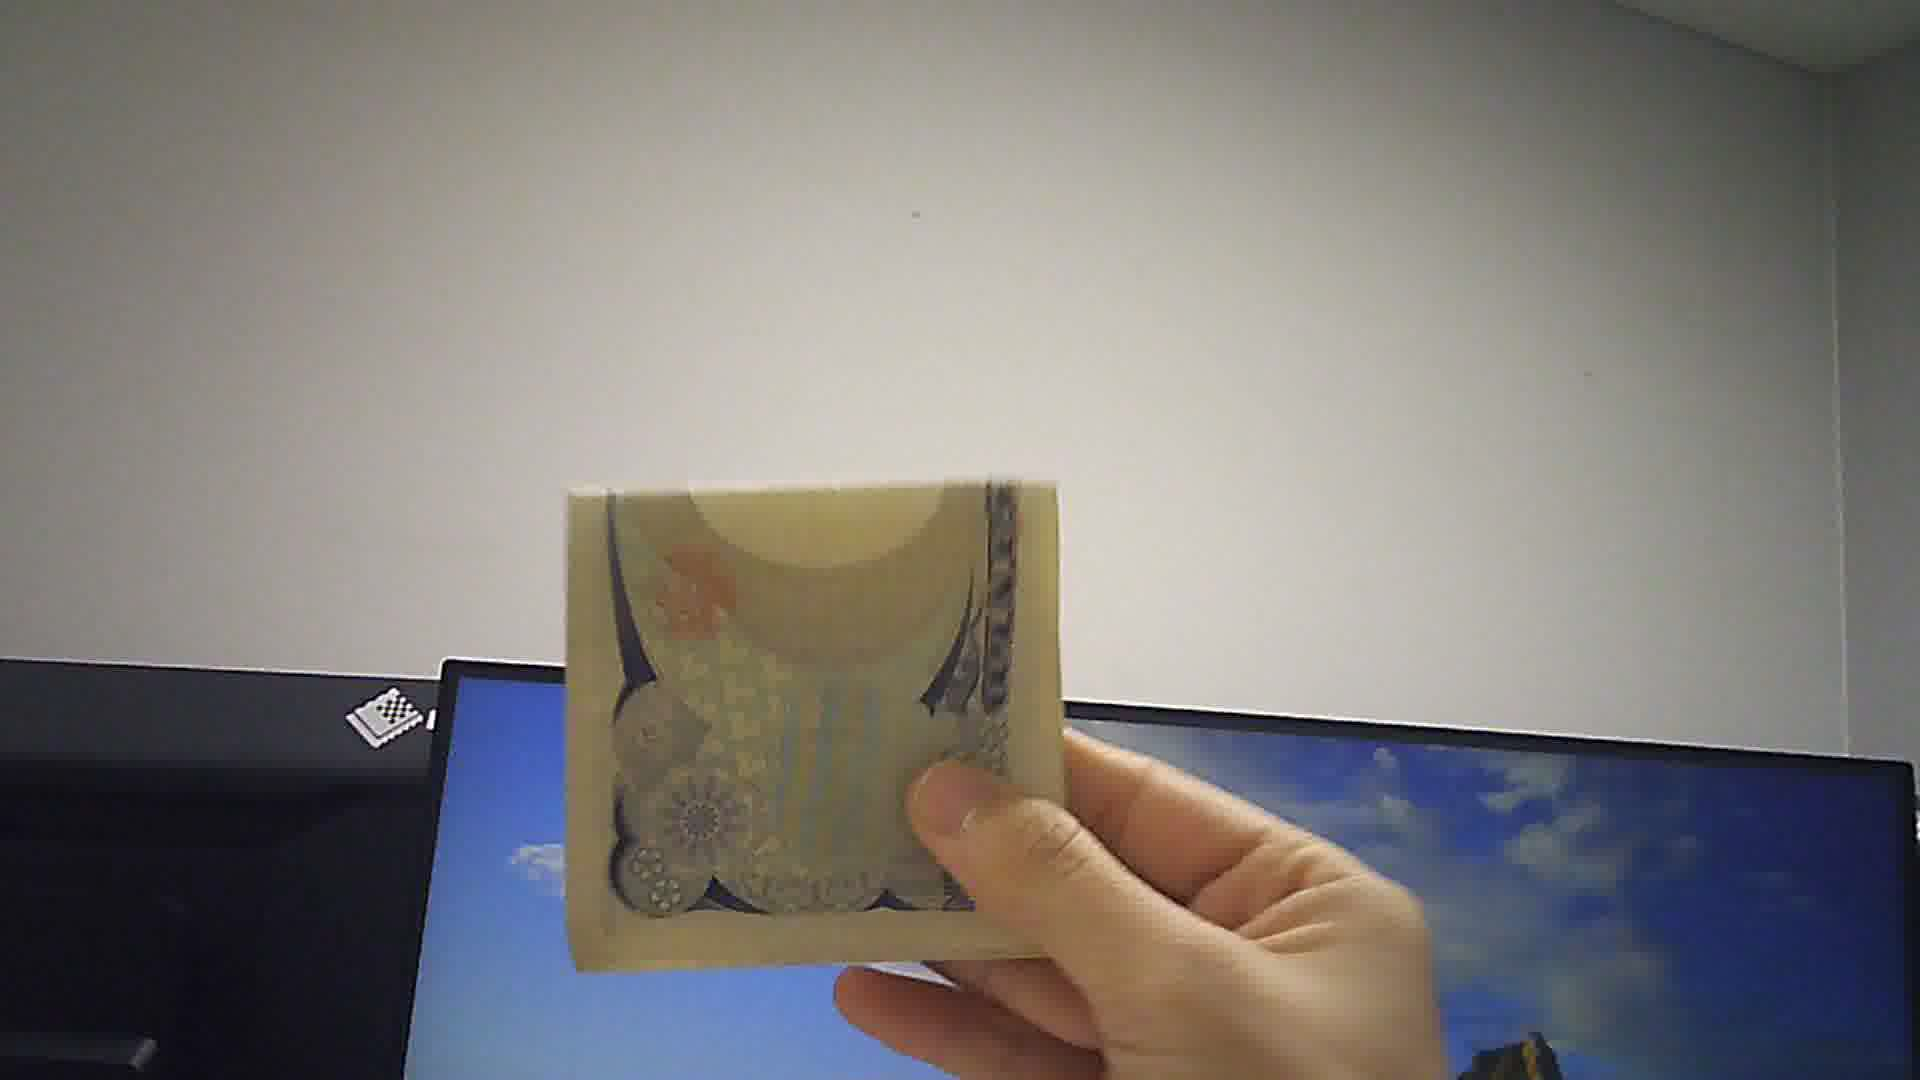1,000 Yen: (563, 467, 1080, 978)
